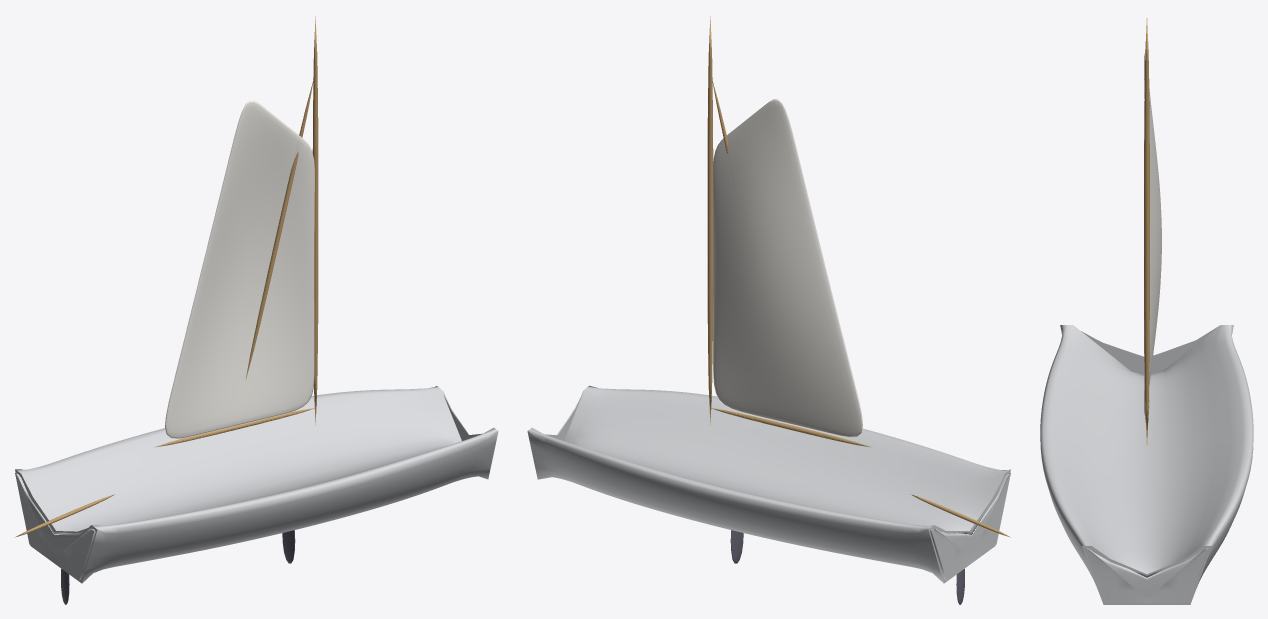
File: Optimist3735_combined.fbx
The picture shows the model from 3 angles, left to right: view 1: azimuth 30°, elevation 25°; view 2: azimuth 150°, elevation 25°; view 3: azimuth 270°, elevation 25°; orthographic projection. The views are drawn at different scales.
Parts seen in each view (by area): view 1: SM_Optimist3735; view 2: SM_Optimist3735; view 3: SM_Optimist3735.
Boxes of the visible parts, <box> form: SM_Optimist3735: <box>15,16,498,604</box>; SM_Optimist3735: <box>527,16,1010,604</box>; SM_Optimist3735: <box>1040,18,1253,604</box>.
Size of the model in its own units: 0.9829 by 2.55 by 2.9.
